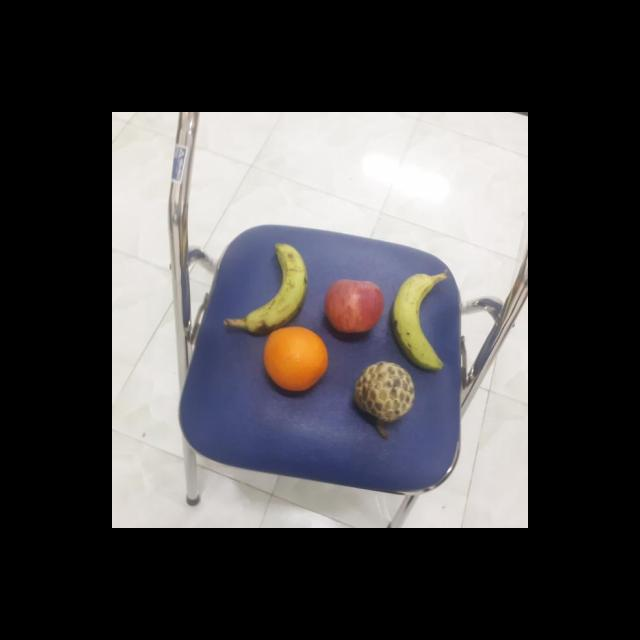Sakya fruit: (350, 360, 416, 420)
apple: (321, 277, 387, 334)
banana: (239, 238, 309, 338), (391, 268, 446, 370)
orange: (261, 324, 328, 395)
